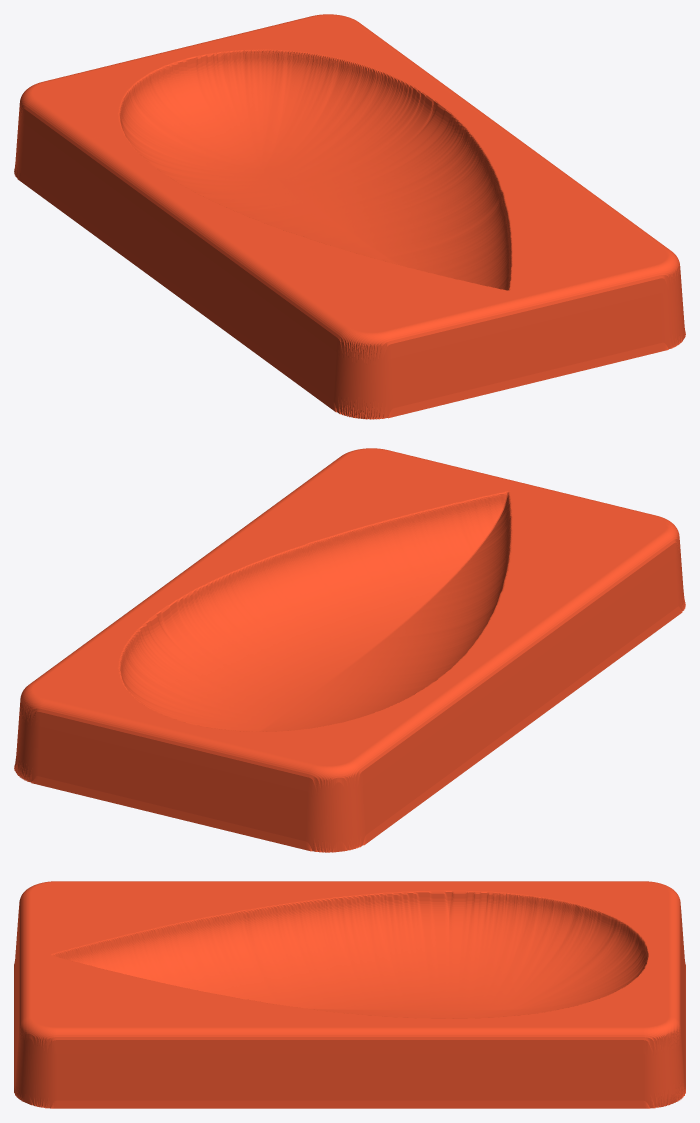
File: mold.glb
The picture shows the model from 3 angles, top to bottom: view 1: azimuth 30°, elevation 25°; view 2: azimuth 150°, elevation 25°; view 3: azimuth 270°, elevation 25°; orthographic projection. The views are drawn at different scales.
Visible parts, largest first — view 1: geometry_0; view 2: geometry_0; view 3: geometry_0.
Part boxes in pixels (<box>): geometry_0: <box>14,14,685,419</box>; geometry_0: <box>14,448,685,852</box>; geometry_0: <box>14,881,685,1108</box>.
Bounding box in the file's own units: 0.0804 × 0.0175 × 0.1435.
